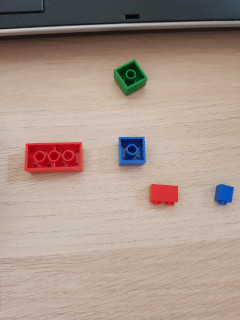1x1 blue: (215, 183, 235, 207)
1x2 red: (149, 183, 181, 208)
2x2 blue: (118, 136, 146, 166)
2x2 green: (113, 58, 148, 96)
2x4 red: (25, 142, 84, 173)
